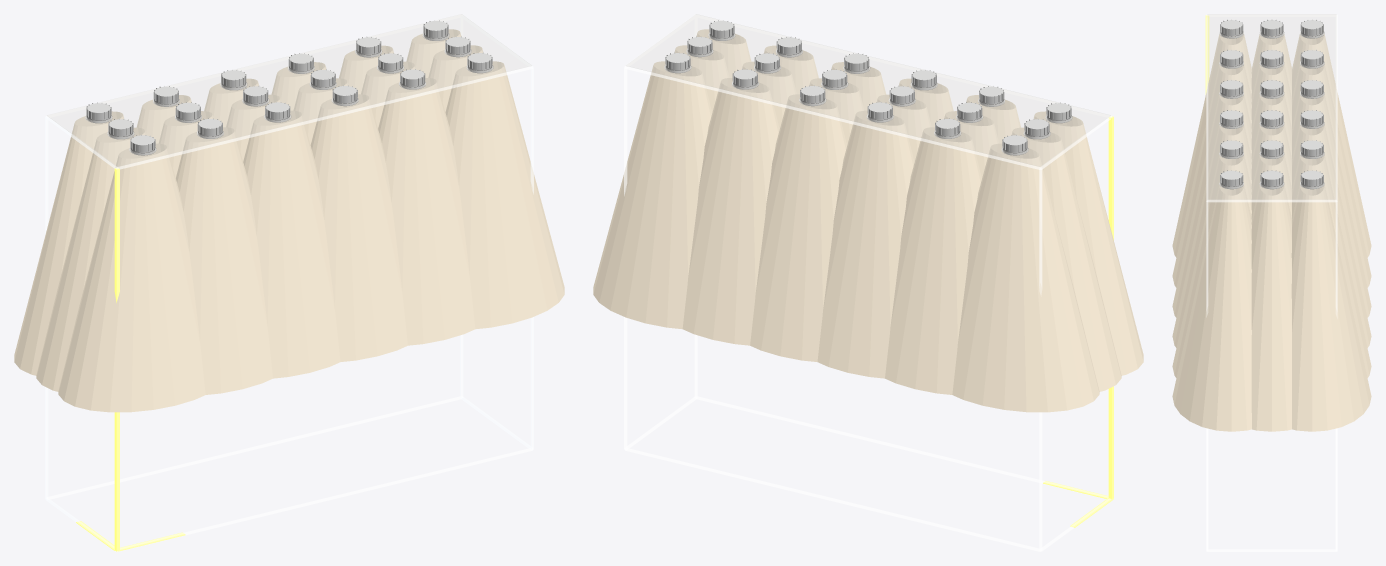
Rendered from isik_blade12.glb.
3 renders of one model, left to right at view 1: azimuth 30°, elevation 25°; view 2: azimuth 150°, elevation 25°; view 3: azimuth 270°, elevation 25°, orthographic. The views are drawn at different scales.
Parts seen in each view (by area): view 1: ar_ar_huzme, hayalet_tavan, ar_hayalet, ar_isaret_altin; view 2: ar_ar_huzme, hayalet_tavan, ar_hayalet, ar_isaret_altin; view 3: ar_ar_huzme, hayalet_tavan, BLADE_12_beyaz (×18), ar_hayalet, ar_isaret_altin.
Boxes of the visible parts, bbox=[...] form: ar_ar_huzme: bbox=[14, 29, 564, 412]; hayalet_tavan: bbox=[47, 14, 531, 166]; ar_hayalet: bbox=[45, 14, 533, 551]; ar_isaret_altin: bbox=[76, 168, 185, 551]; ar_ar_huzme: bbox=[593, 29, 1143, 412]; hayalet_tavan: bbox=[626, 14, 1110, 166]; ar_hayalet: bbox=[624, 14, 1111, 551]; ar_isaret_altin: bbox=[1043, 116, 1113, 527]; ar_ar_huzme: bbox=[1172, 33, 1371, 431]; hayalet_tavan: bbox=[1207, 14, 1336, 199]; BLADE_12_beyaz (×18): bbox=[1219, 19, 1324, 189]; ar_hayalet: bbox=[1206, 14, 1337, 551]; ar_isaret_altin: bbox=[1205, 15, 1209, 94].
Size of the model in its own units: 2.96 by 2.24 by 1.13.
9 materials, 1 textured.
